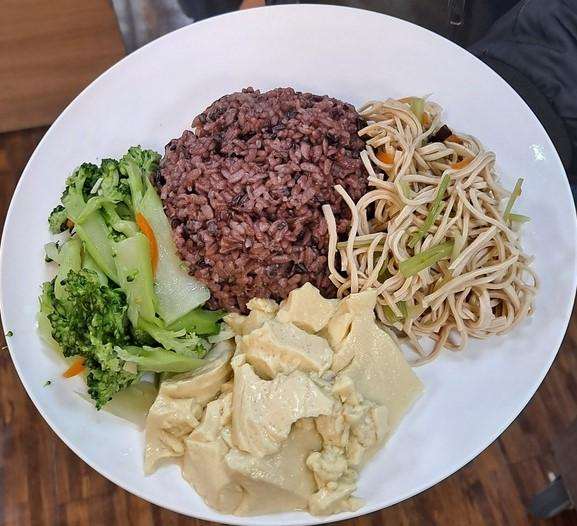big fried chicken leg: (0, 2, 577, 526)
braised fish: (157, 82, 376, 305)
braised fish fillet: (139, 279, 428, 519), (320, 91, 536, 356), (39, 149, 225, 398)
